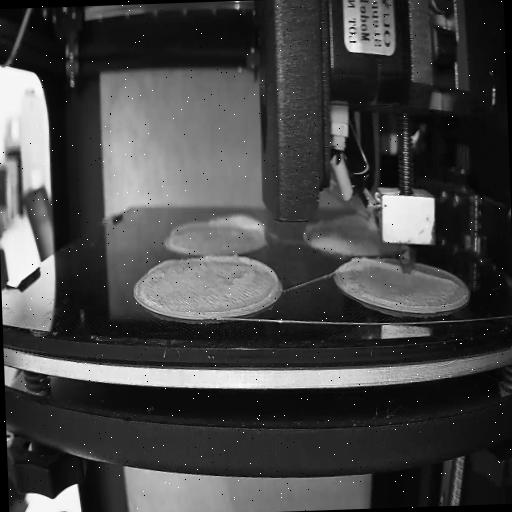over_extrusion: (200, 249, 280, 316), (208, 210, 266, 239), (412, 265, 456, 289), (350, 254, 402, 274), (146, 254, 182, 278), (168, 218, 207, 238)
